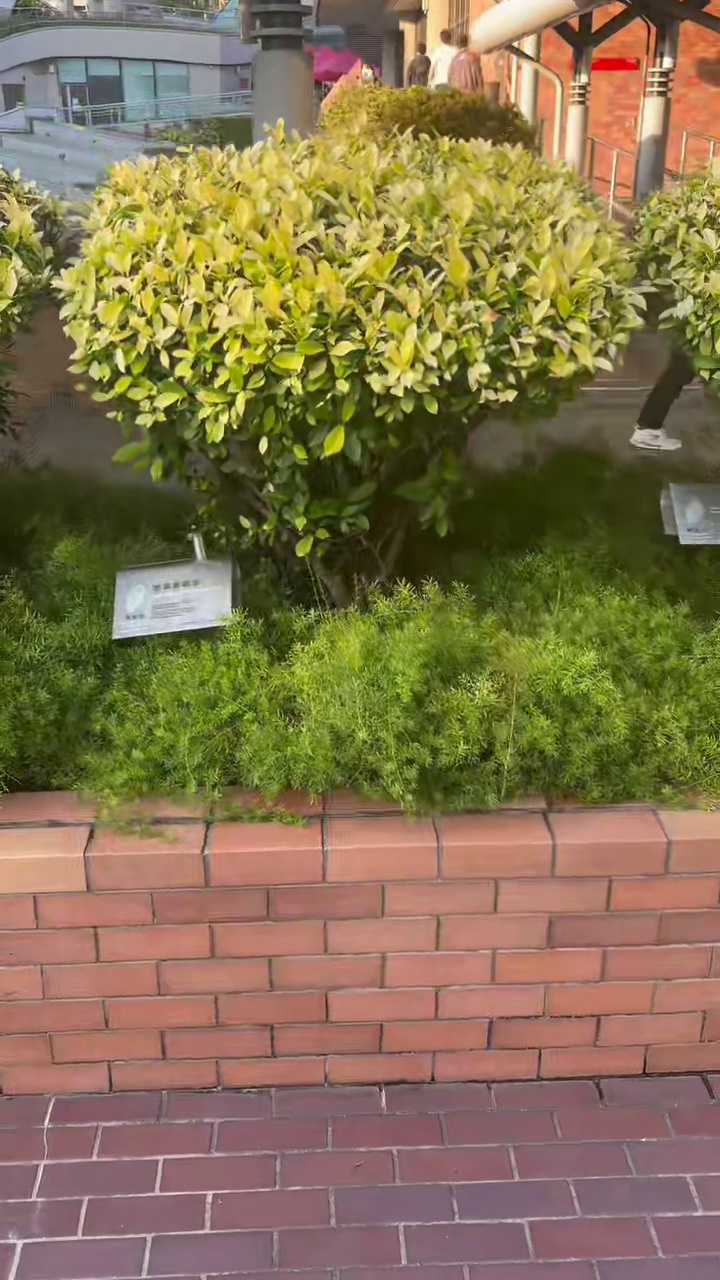Golden-leaves Fig: (56, 126, 643, 603)
